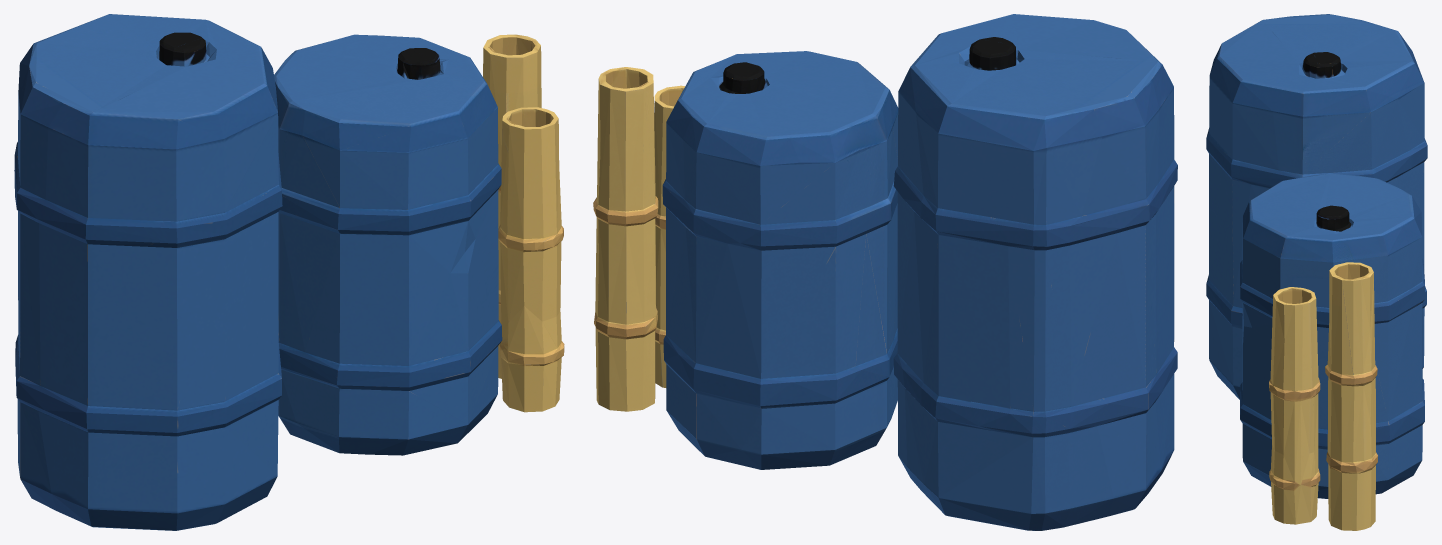
Rendered from S2_water_barrels_a.glb.
The picture shows the model from 3 angles, left to right: view 1: azimuth 30°, elevation 25°; view 2: azimuth 150°, elevation 25°; view 3: azimuth 270°, elevation 25°; orthographic projection. The views are drawn at different scales.
Visible parts, largest first — view 1: Mesh_0; view 2: Mesh_0; view 3: Mesh_0.
Boxes of the visible parts, <box> form: Mesh_0: <box>14,14,564,530</box>; Mesh_0: <box>593,14,1177,530</box>; Mesh_0: <box>1206,14,1427,530</box>.
Size of the model in its own units: 1.18 by 0.9 by 0.5431.
Materials: 1 (1 with a texture image).
